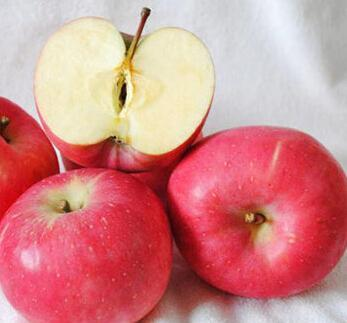apple: (158, 128, 342, 299), (1, 169, 175, 321), (1, 95, 57, 223)
